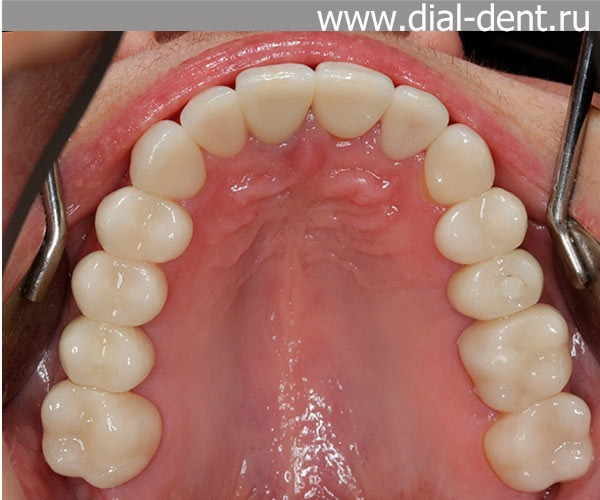UL1BC_healthy: (436, 186, 526, 264)
UL1M_healthy: (458, 304, 569, 410)
UL2BC_healthy: (450, 249, 543, 320)
UL2M_healthy: (484, 395, 591, 491)
ULCI_healthy: (316, 63, 394, 138)
ULC_healthy: (426, 123, 494, 205)
ULLI_healthy: (382, 85, 449, 158)
UR1BC_healthy: (95, 189, 191, 262)
UR1M_healthy: (59, 317, 152, 391)
UR2BC_healthy: (73, 251, 166, 326)
UR2M_healthy: (42, 381, 159, 487)
URCI_healthy: (236, 64, 315, 140)
URC_healthy: (132, 121, 203, 195)
URLI_healthy: (181, 86, 244, 155)
